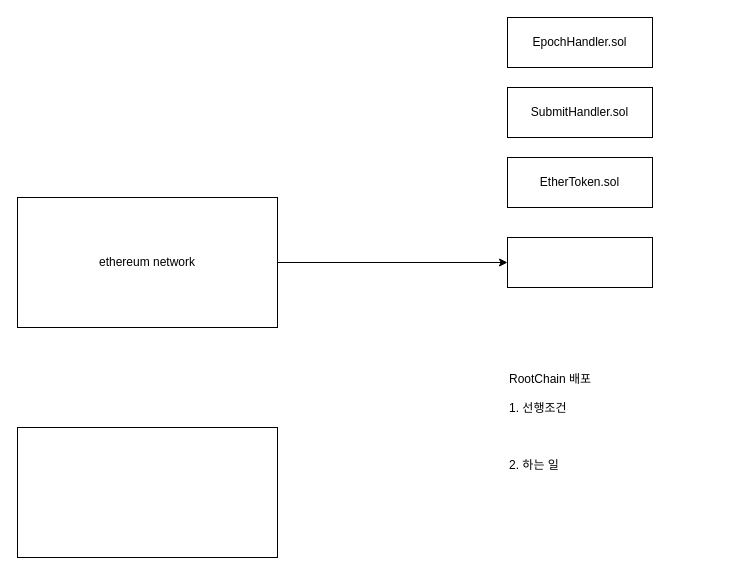
Image size: 745x575. Some labels were removed from this diagram. Here are the shapes that lost their labels. From the top down, the centre of each, then its label:
At (579,262): "RootChain.sol".
At (147,492): "tokamak network".
